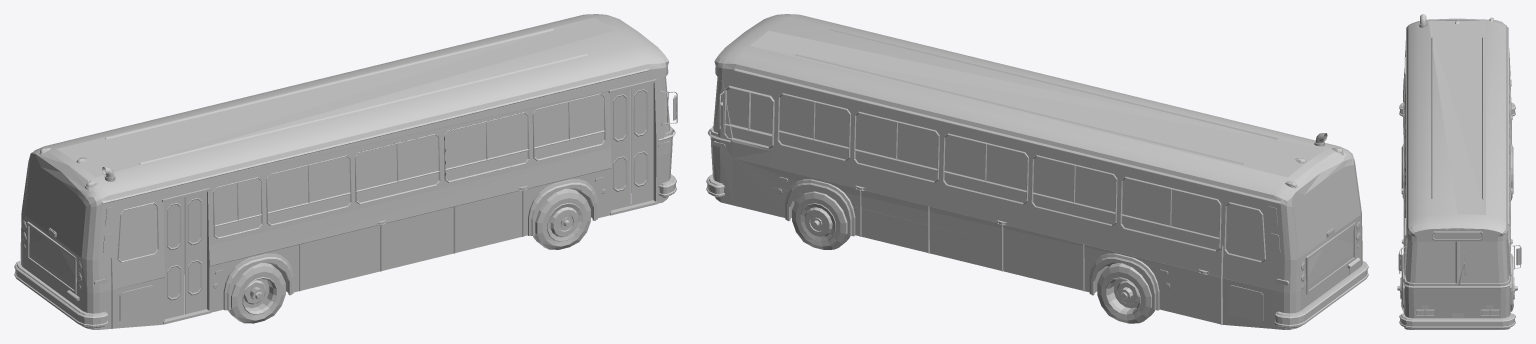
File: BUS _8.FBX
3 renders of one model, left to right at view 1: azimuth 30°, elevation 25°; view 2: azimuth 150°, elevation 25°; view 3: azimuth 270°, elevation 25°, orthographic. The views are drawn at different scales.
Parts seen in each view (by area): view 1: esterno senza gadget001, bus esterno, finestra; view 2: esterno senza gadget001, bus esterno; view 3: esterno senza gadget001, bus esterno.
Part boxes in pixels (left/top/right/bottom): esterno senza gadget001: left=20, top=14, right=672, bottom=329; bus esterno: left=14, top=29, right=677, bottom=328; finestra: left=167, top=198, right=201, bottom=249; esterno senza gadget001: left=710, top=14, right=1362, bottom=329; bus esterno: left=706, top=29, right=1368, bottom=328; esterno senza gadget001: left=1403, top=18, right=1510, bottom=329; bus esterno: left=1397, top=14, right=1521, bottom=328.
Bounding box in the file's own units: 15.03 × 4.37 × 3.67.
